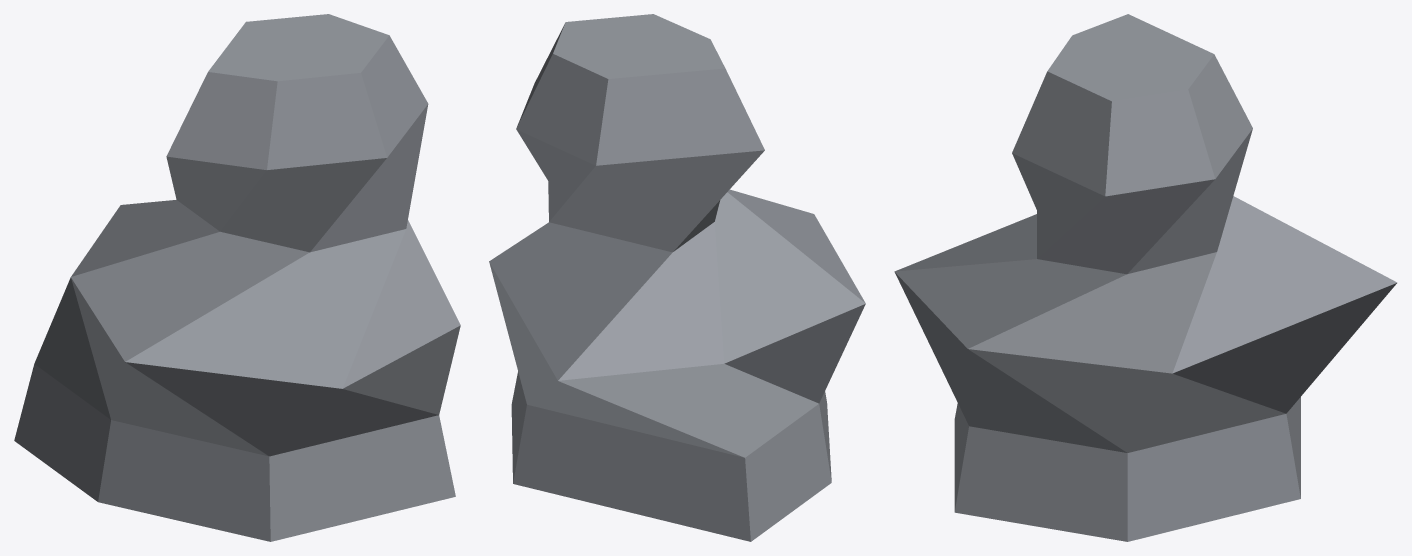
Rendered from Rock_v02.fbx.
The picture shows the model from 3 angles, left to right: view 1: azimuth 30°, elevation 25°; view 2: azimuth 150°, elevation 25°; view 3: azimuth 270°, elevation 25°; orthographic projection. The views are drawn at different scales.
Visible parts, largest first — view 1: Rock_v02; view 2: Rock_v02; view 3: Rock_v02.
Part boxes in pixels (box(x1,y1,x2,y2)): Rock_v02: box(14, 14, 460, 541); Rock_v02: box(489, 14, 865, 541); Rock_v02: box(894, 14, 1397, 541).
Bounding box in the file's own units: 34.21 × 38.98 × 42.73.
Materials: 1 (1 with a texture image).
